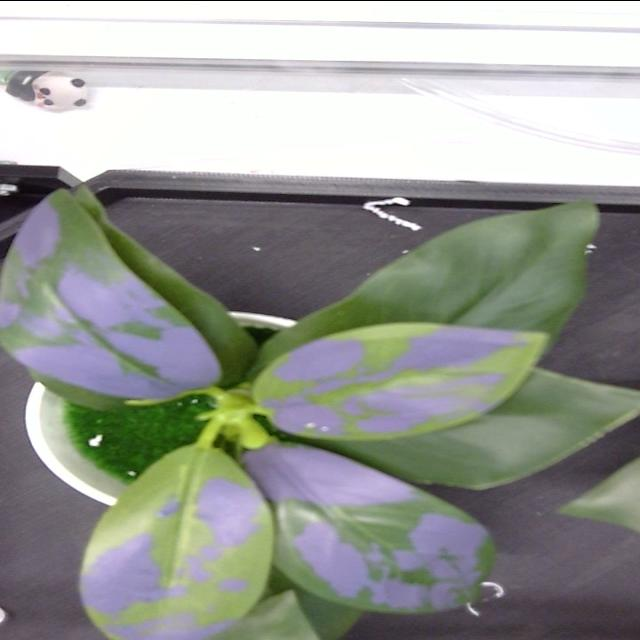Green: (251, 200, 599, 371), (308, 368, 639, 488)
Purple: (0, 186, 244, 408), (243, 442, 494, 612), (81, 444, 275, 640), (252, 322, 546, 439)
